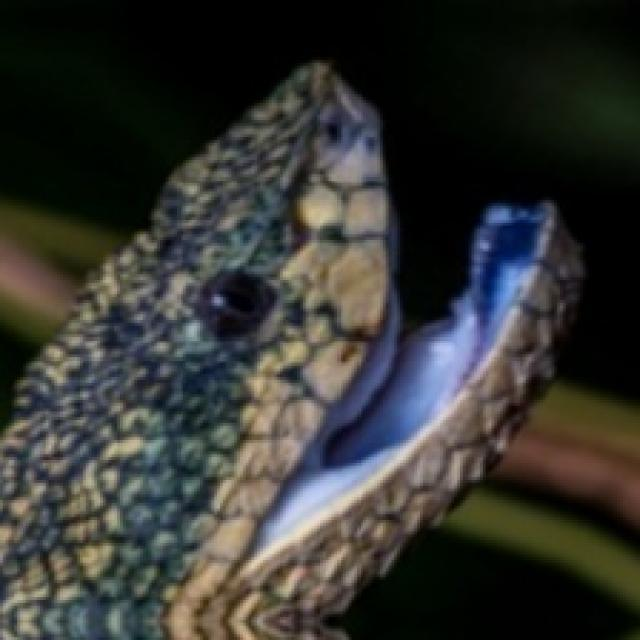north ph temple pitviper: (0, 63, 580, 637)
